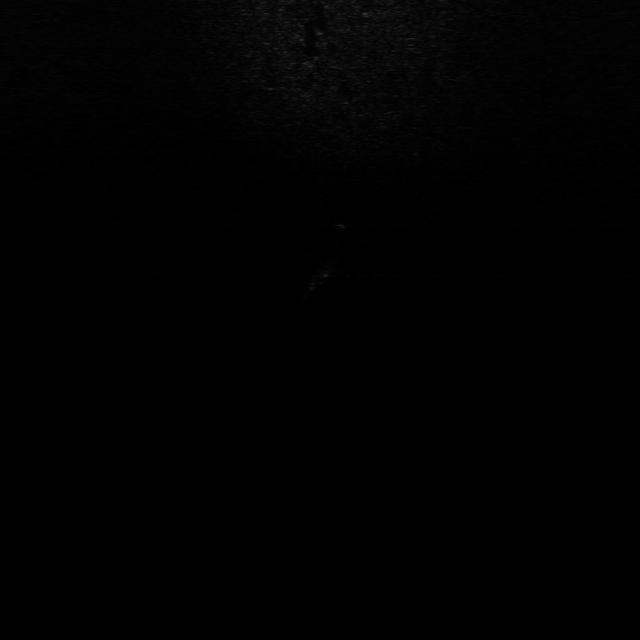human body: (306, 220, 350, 308)
